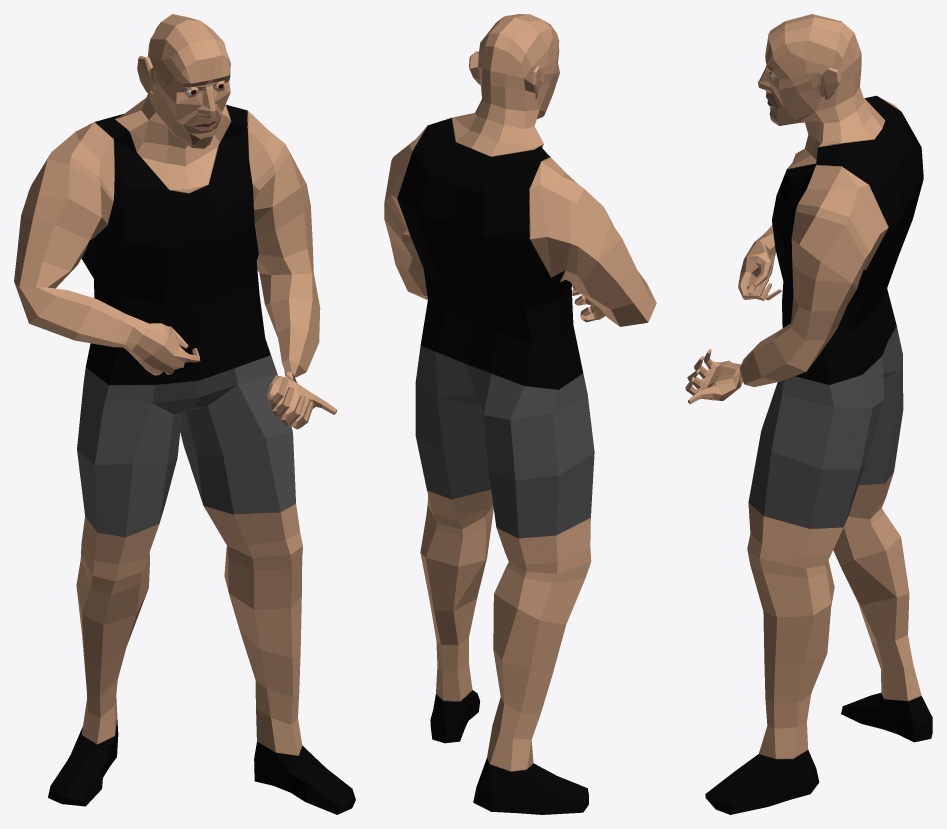
File: PlayerIdle(15).obj
3 views of the same model, side by side, from view 1: azimuth 30°, elevation 25°; view 2: azimuth 150°, elevation 25°; view 3: azimuth 270°, elevation 25° (orthographic). The views are drawn at different scales.
Visible parts, largest first — view 1: Plane002; view 2: Plane002; view 3: Plane002.
Boxes of the visible parts, x1,y1,x2,y2 form: Plane002: (14, 14, 355, 814); Plane002: (384, 14, 656, 814); Plane002: (685, 14, 932, 814).
Size of the model in its own units: 676 by 1808 by 548.
